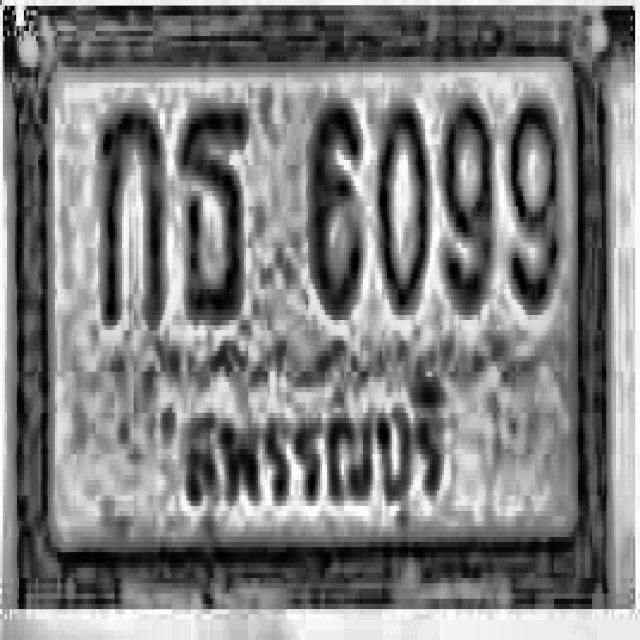license-plate: (18, 0, 605, 602)
